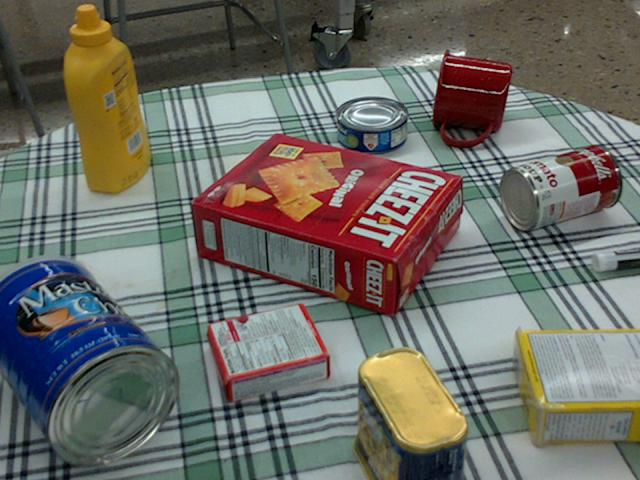cracker_box: (190, 131, 461, 316)
gelatin_box: (205, 303, 331, 398)
large_marker: (592, 248, 639, 269)
master_chef_can: (0, 255, 178, 466)
mug: (431, 49, 511, 145)
mustard_bottle: (64, 5, 149, 192)
potted_meat_can: (352, 345, 468, 479)
sugar_box: (513, 329, 639, 448)
tomato_soup_can: (500, 144, 620, 229)
tuna_fish_can: (335, 96, 408, 153)
